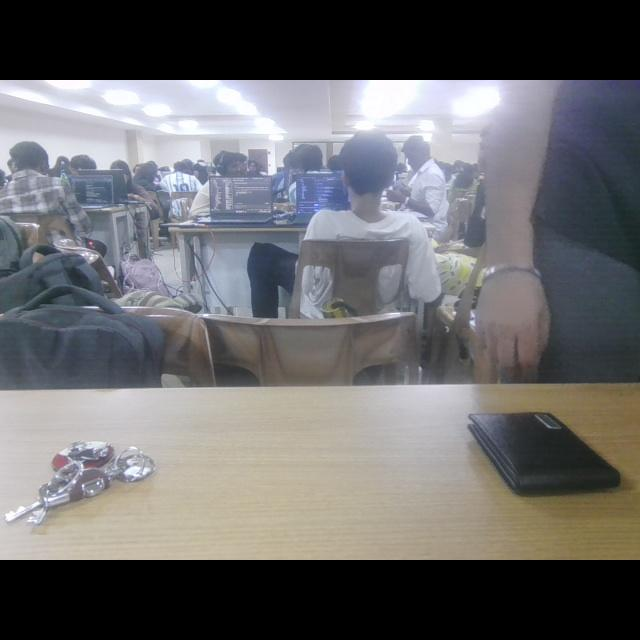keys: (4, 438, 172, 530)
wallet: (462, 391, 620, 503)
